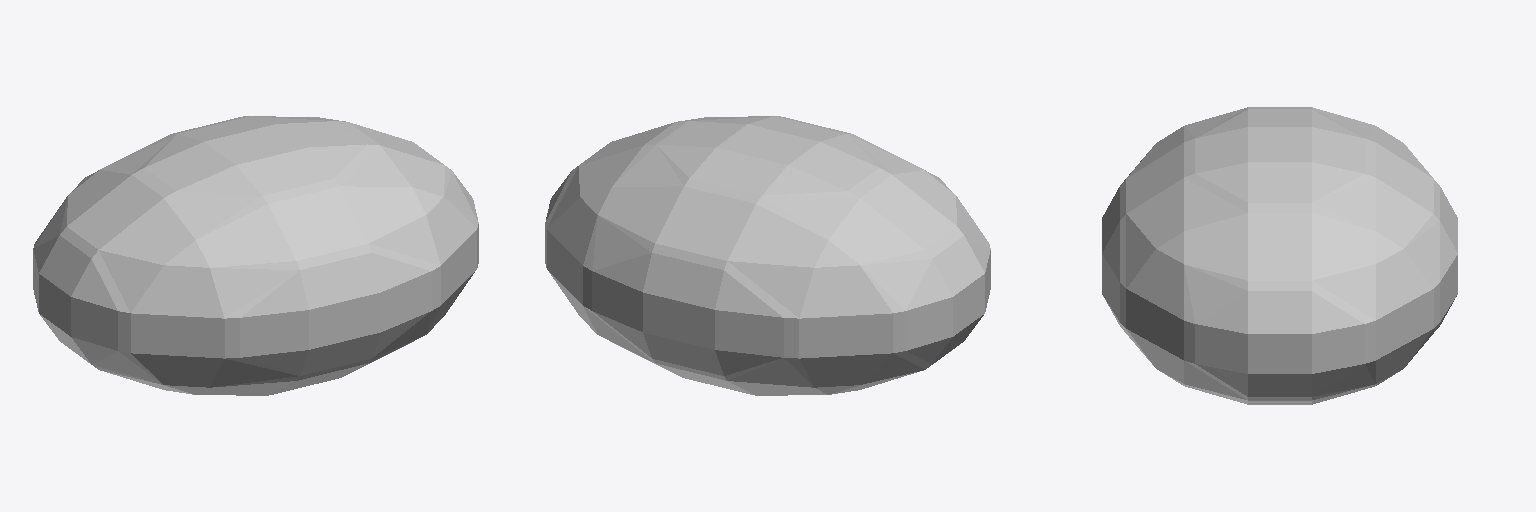
The model's file is leaves.obj.
3 renders of one model, left to right at view 1: azimuth 30°, elevation 25°; view 2: azimuth 150°, elevation 25°; view 3: azimuth 270°, elevation 25°, orthographic.
Visible parts, largest first — view 1: Mball; view 2: Mball; view 3: Mball.
Part boxes in pixels (x1,y1,x2,y2): Mball: (33, 116, 478, 395); Mball: (545, 116, 990, 395); Mball: (1102, 107, 1457, 404).
Bounding box in the file's own units: 4.22 × 2.23 × 3.23.